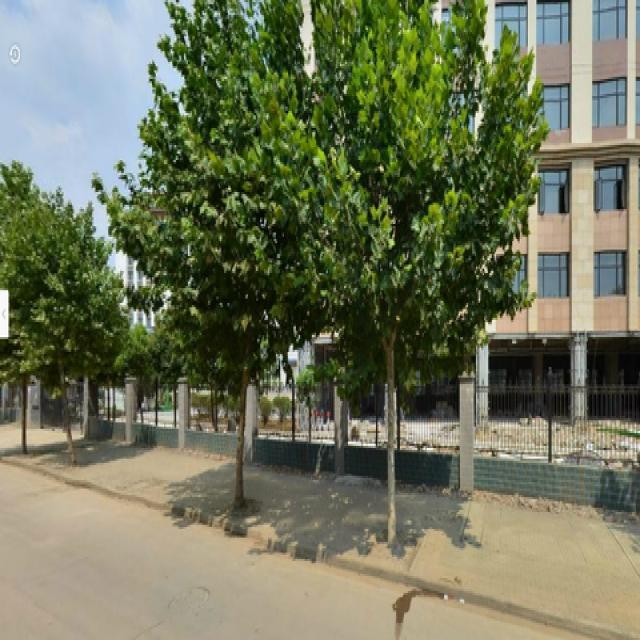meta: (312, 24, 531, 538), (120, 4, 301, 512)
